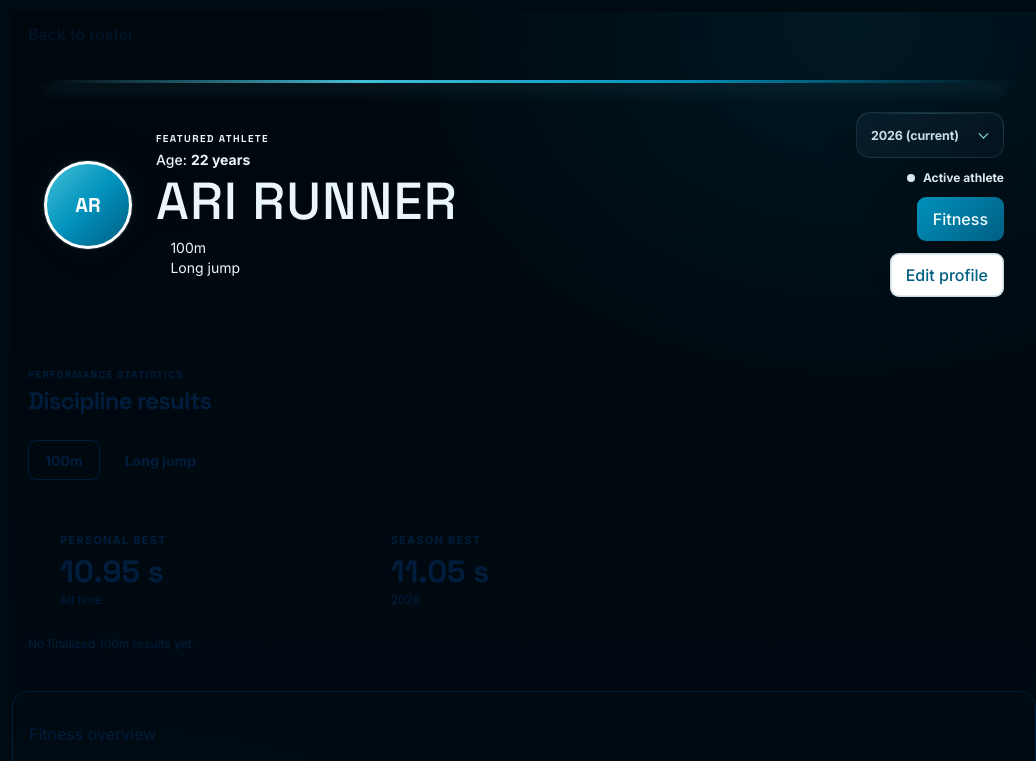
Test: AthleteDetailPage › shows selected disciplines as tabs, including a discipline without results
expect the text "10.95 s" is shown: met, box [60,552,164,591]
Click the tab "Long jump" at (160, 460), box [108,440,213,480]
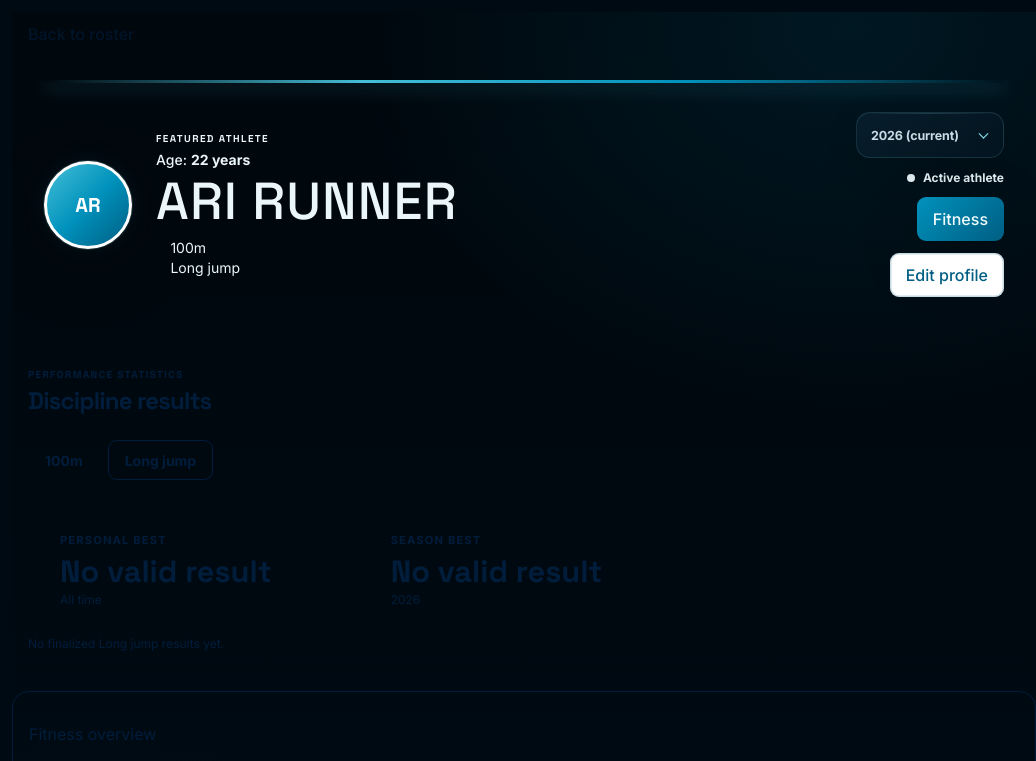
expect the text "No valid result" is shown 2 times: met, box [60,552,272,591]; [391,552,602,591]
expect the text "No finalized Long jump results yet." is shown: met, box [28,636,224,651]
